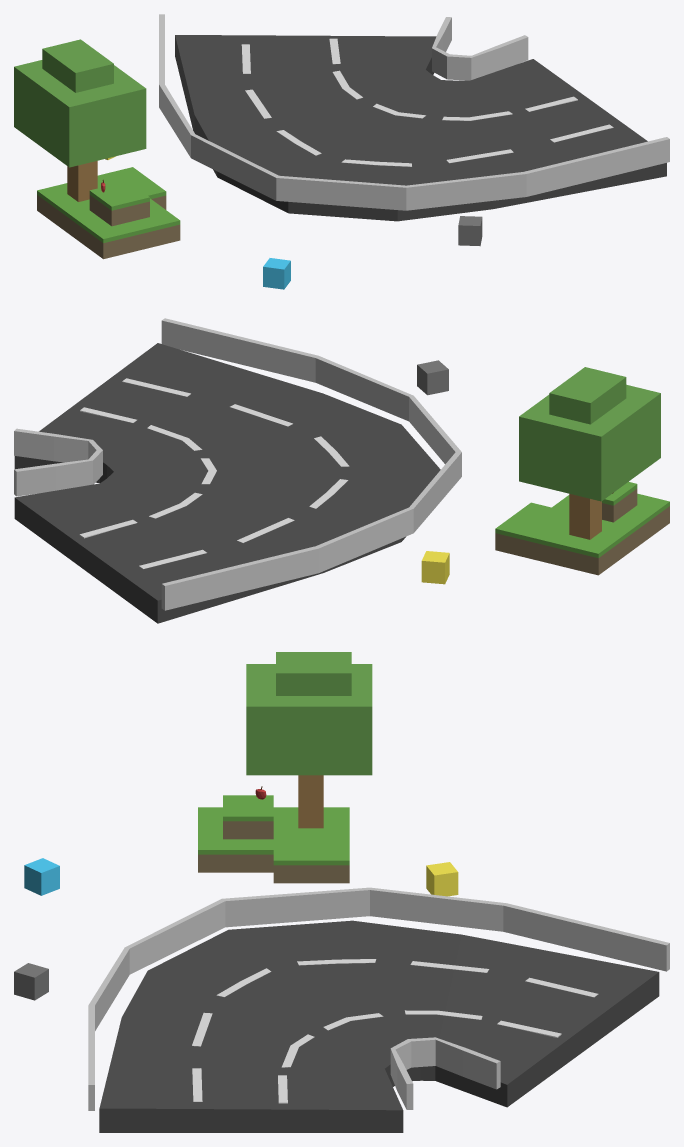
File: highway_01_2.fbx
3 views of the same model, one above another, from view 1: azimuth 30°, elevation 25°; view 2: azimuth 150°, elevation 25°; view 3: azimuth 270°, elevation 25° (orthographic). The views are drawn at different scales.
Visible parts, largest first — view 1: autobahn01.002, leitPlankOutside.002, leafBig, ground, leitPlankInside.002, leafTop, groundupper, wood, ground3Blocks, diamondBlock, stoneBlock; view 2: autobahn01.002, leitPlankOutside.002, leafBig, ground, leitPlankInside.002, leafTop, wood, ground3Blocks, groundupper, stoneBlock, goldBlock; view 3: autobahn01.002, leitPlankOutside.002, leafBig, ground, leitPlankInside.002, leafTop, ground3Blocks, groundupper, wood, diamondBlock, stoneBlock, goldBlock.
Boxes of the visible parts, x1=… form: autobahn01.002: x1=175, y1=35, x2=666, y2=221; leitPlankOutside.002: x1=159, y1=14, x2=669, y2=210; leafBig: x1=14, y1=60, x2=146, y2=167; ground: x1=37, y1=171, x2=180, y2=259; leitPlankInside.002: x1=432, y1=17, x2=528, y2=80; leafTop: x1=42, y1=39, x2=113, y2=92; groundupper: x1=89, y1=181, x2=149, y2=226; wood: x1=67, y1=161, x2=97, y2=201; ground3Blocks: x1=114, y1=167, x2=166, y2=209; diamondBlock: x1=263, y1=258, x2=290, y2=289; stoneBlock: x1=458, y1=216, x2=482, y2=246; autobahn01.002: x1=14, y1=343, x2=440, y2=623; leitPlankOutside.002: x1=161, y1=318, x2=461, y2=610; leafBig: x1=519, y1=384, x2=660, y2=501; ground: x1=516, y1=493, x2=669, y2=575; leitPlankInside.002: x1=14, y1=428, x2=102, y2=496; leafTop: x1=549, y1=367, x2=626, y2=424; wood: x1=569, y1=494, x2=601, y2=539; ground3Blocks: x1=495, y1=502, x2=551, y2=555; groundupper: x1=602, y1=481, x2=637, y2=522; stoneBlock: x1=417, y1=360, x2=448, y2=395; goldBlock: x1=421, y1=551, x2=449, y2=584; autobahn01.002: x1=99, y1=920, x2=659, y2=1132; leitPlankOutside.002: x1=88, y1=887, x2=669, y2=1110; leafBig: x1=246, y1=664, x2=372, y2=775; ground: x1=198, y1=807, x2=349, y2=872; leitPlankInside.002: x1=390, y1=1037, x2=500, y2=1109; leafTop: x1=276, y1=652, x2=351, y2=695; ground3Blocks: x1=273, y1=850, x2=349, y2=883; groundupper: x1=223, y1=795, x2=273, y2=839; wood: x1=298, y1=775, x2=323, y2=828; diamondBlock: x1=24, y1=858, x2=59, y2=895; stoneBlock: x1=14, y1=963, x2=48, y2=1000; goldBlock: x1=426, y1=862, x2=458, y2=896.
Bounding box in the file's own units: 89.23 × 27.49 × 83.58.
